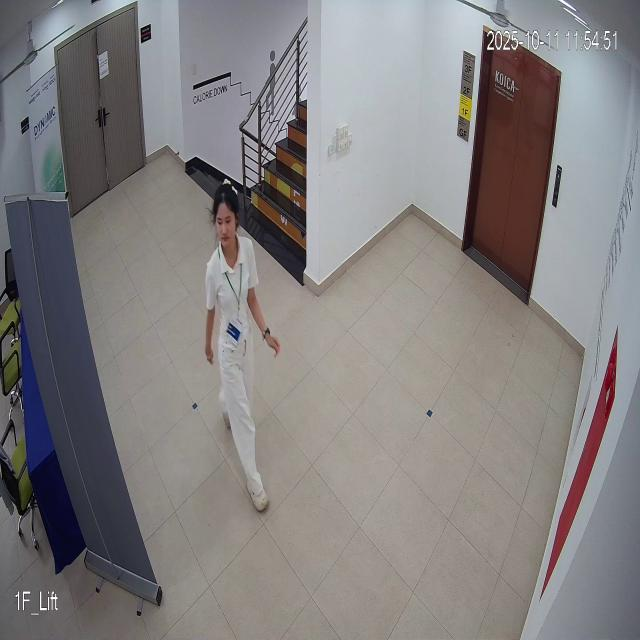face: (206, 162, 246, 258)
